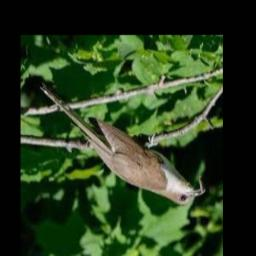Cuckoo: (40, 82, 205, 206)
